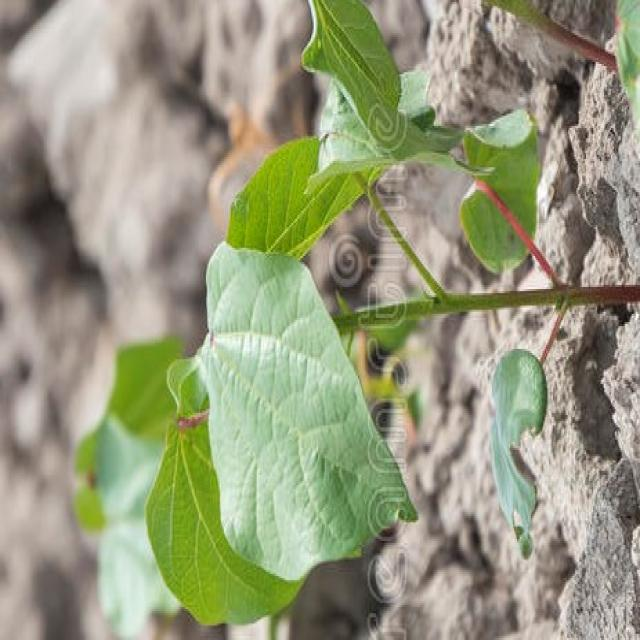Healthy Leaf: (30, 41, 640, 638)
